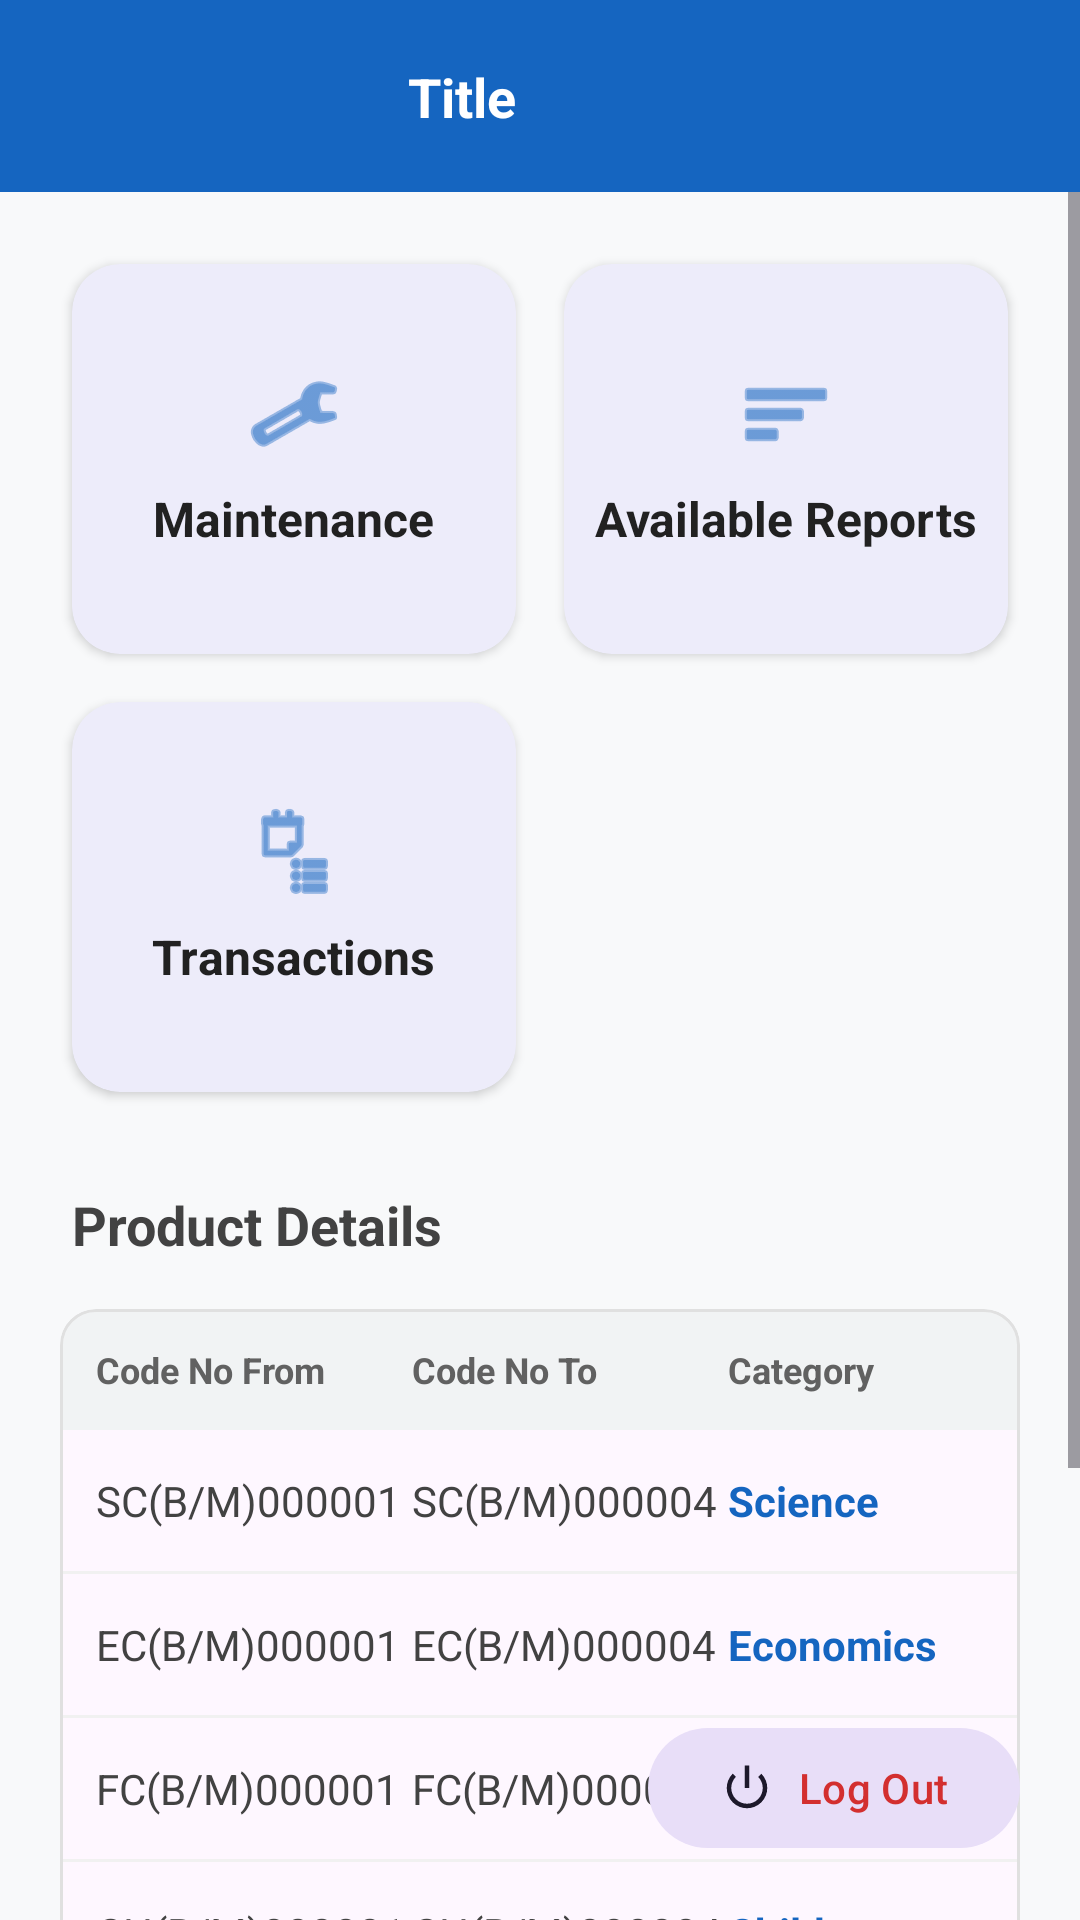

Locate icon controls on the screen. Image size 1080×1920, boxes as (x1=x1, y1=y1, x2=x2, y2=y2).
agenda: (x1=261, y1=809, x2=328, y2=894)
manage: (x1=251, y1=381, x2=337, y2=447)
sort by size: (x1=745, y1=388, x2=827, y2=441)
